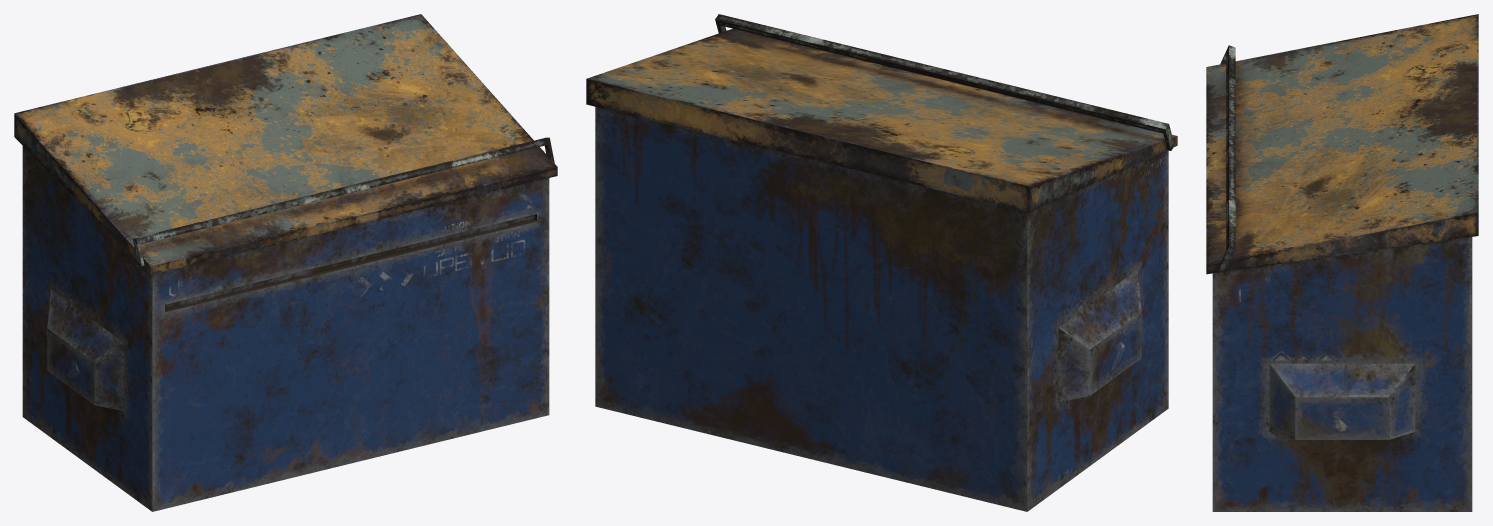
The model's file is dumpster_mesh_01.fbx.
3 renders of one model, left to right at view 1: azimuth 30°, elevation 25°; view 2: azimuth 150°, elevation 25°; view 3: azimuth 270°, elevation 25°, orthographic. The views are drawn at different scales.
Visible parts, largest first — view 1: Dumpster_Mesh_01; view 2: Dumpster_Mesh_01; view 3: Dumpster_Mesh_01.
Boxes of the visible parts, bbox=[...] form: Dumpster_Mesh_01: bbox=[14, 14, 557, 511]; Dumpster_Mesh_01: bbox=[586, 14, 1177, 511]; Dumpster_Mesh_01: bbox=[1206, 14, 1478, 511].
Bounding box in the file's own units: 221 × 148 × 121.
